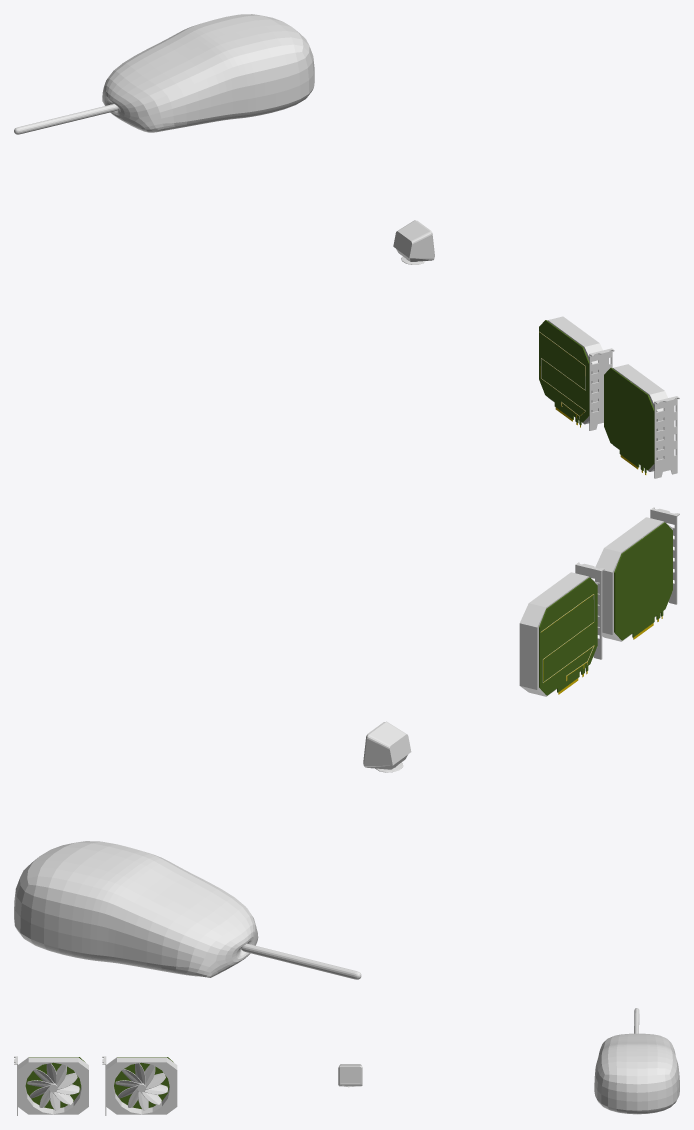
Rendered from oldPc.fbx.
3 views of the same model, one above another, from view 1: azimuth 30°, elevation 25°; view 2: azimuth 150°, elevation 25°; view 3: azimuth 270°, elevation 25° (orthographic). The views are drawn at different scales.
Parts seen in each view (by area): view 1: Cube, GPU1FAN, GPU1FANPCB, PcMasterTaRace, Plane; view 2: Cube, GPU1FANPCB, GPU1FAN, PcMasterTaRace, Plane; view 3: Cube, GPU1FANPCB, GPU1FAN, PcMasterTaRace.
Boxes of the visible parts, x1,y1,x2,y2 form: Cube: (102, 14, 314, 132); GPU1FAN: (604, 364, 679, 478); GPU1FANPCB: (539, 316, 614, 430); PcMasterTaRace: (393, 220, 434, 264); Plane: (14, 104, 118, 134); Cube: (14, 841, 258, 977); GPU1FANPCB: (519, 562, 604, 696); GPU1FAN: (595, 507, 679, 641); PcMasterTaRace: (363, 721, 411, 772); Plane: (241, 943, 361, 979); Cube: (594, 1033, 679, 1114); GPU1FANPCB: (102, 1056, 177, 1115); GPU1FAN: (14, 1056, 88, 1115); PcMasterTaRace: (338, 1064, 362, 1087).
Size of the model in its own units: 360 by 127 by 1052.
